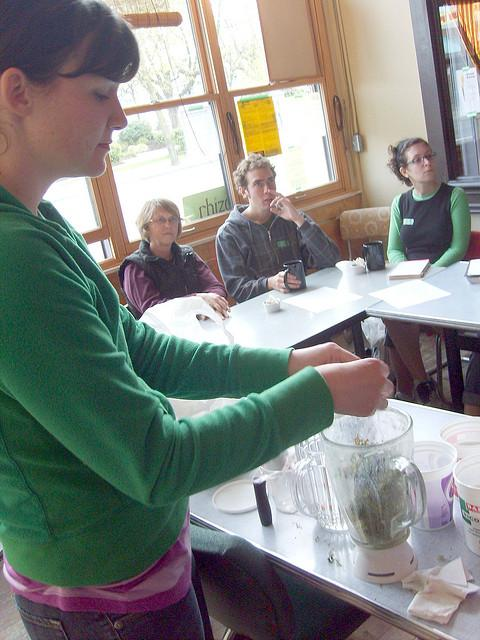cup: (414, 419, 479, 556), (285, 260, 305, 289), (363, 241, 383, 269)
